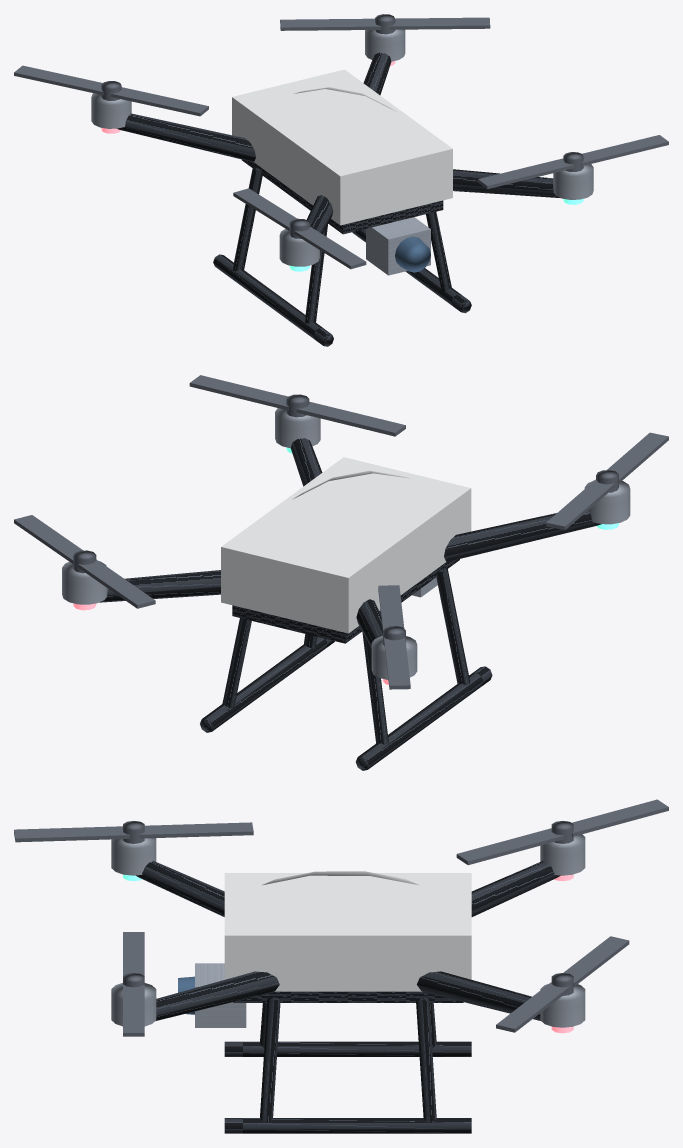
File: drone_quad_cine.glb
3 renders of one model, top to bottom at view 1: azimuth 30°, elevation 25°; view 2: azimuth 150°, elevation 25°; view 3: azimuth 270°, elevation 25°, orthographic. The views are drawn at different scales.
Parts seen in each view (by area): view 1: primary_color, carbon_arms, motors_gimbal, rotor_1, rotor_2, rotor_0, rotor_3, camera_lens; view 2: primary_color, carbon_arms, motors_gimbal, rotor_0, rotor_1, rotor_3, rotor_2; view 3: primary_color, carbon_arms, motors_gimbal, rotor_3, rotor_2, rotor_1, rotor_0.
Part boxes in pixels (bbox=[...]): primary_color: bbox=[232, 69, 452, 225]; carbon_arms: bbox=[117, 52, 559, 346]; motors_gimbal: bbox=[91, 29, 593, 275]; rotor_1: bbox=[280, 14, 490, 34]; rotor_2: bbox=[14, 65, 208, 116]; rotor_0: bbox=[478, 135, 668, 189]; rotor_3: bbox=[233, 188, 366, 269]; camera_lens: bbox=[395, 236, 430, 272]; primary_color: bbox=[221, 457, 471, 633]; carbon_arms: bbox=[99, 438, 601, 770]; motors_gimbal: bbox=[62, 408, 630, 679]; rotor_0: bbox=[189, 375, 405, 436]; rotor_1: bbox=[14, 515, 155, 608]; rotor_3: bbox=[546, 432, 668, 530]; rotor_2: bbox=[378, 585, 410, 689]; primary_color: bbox=[224, 871, 471, 991]; carbon_arms: bbox=[136, 861, 560, 1133]; motors_gimbal: bbox=[111, 834, 585, 1027]; rotor_3: bbox=[14, 821, 253, 843]; rotor_2: bbox=[456, 799, 668, 865]; rotor_1: bbox=[496, 936, 629, 1032]; rotor_0: bbox=[123, 932, 144, 1036].
Bounding box in the file's own units: 0.6714 × 0.2824 × 0.7955.
7 materials, 2 textured.
